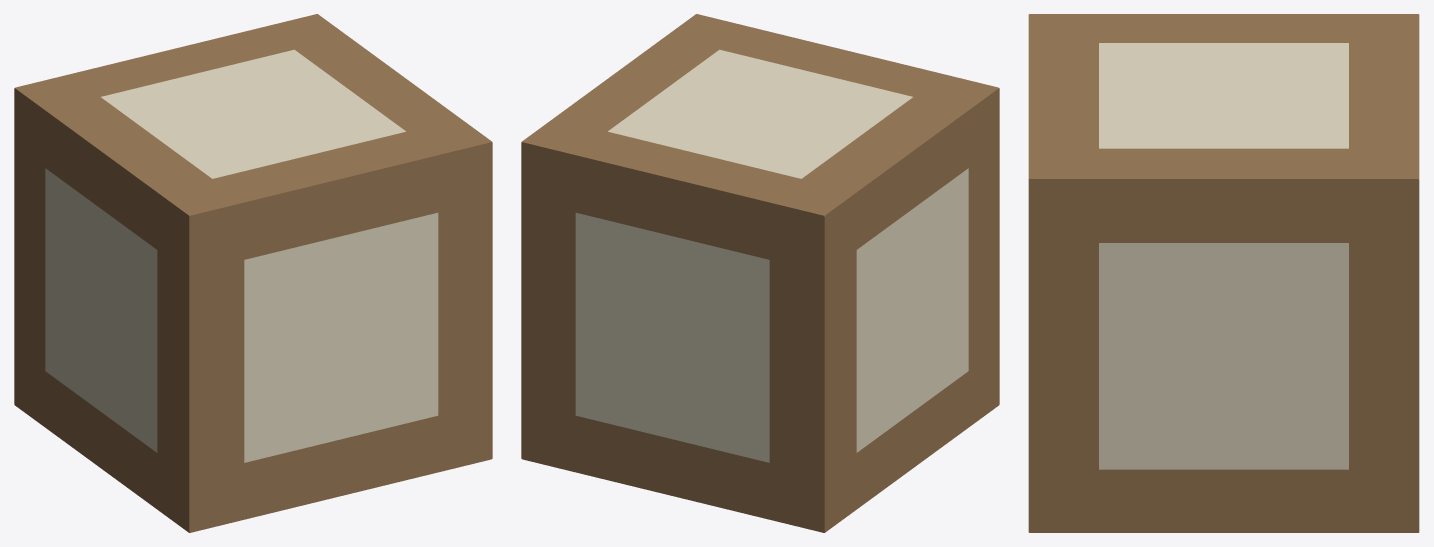
The model's file is SM_StorageLabelBoxMedium.fbx.
3 renders of one model, left to right at view 1: azimuth 30°, elevation 25°; view 2: azimuth 150°, elevation 25°; view 3: azimuth 270°, elevation 25°, orthographic. The views are drawn at different scales.
Visible parts, largest first — view 1: SM_StorageLabelBoxMedium; view 2: SM_StorageLabelBoxMedium; view 3: SM_StorageLabelBoxMedium.
Boxes of the visible parts, x1,y1,x2,y2 form: SM_StorageLabelBoxMedium: (14, 14, 492, 532); SM_StorageLabelBoxMedium: (521, 14, 999, 532); SM_StorageLabelBoxMedium: (1028, 14, 1419, 532).
Bounding box in the file's own units: 0.4014 × 0.4014 × 0.4007.
